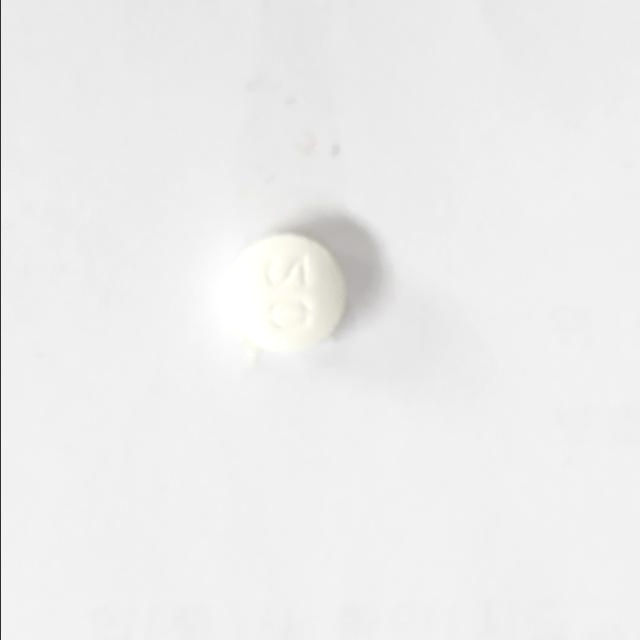pill: (221, 230, 352, 355)
